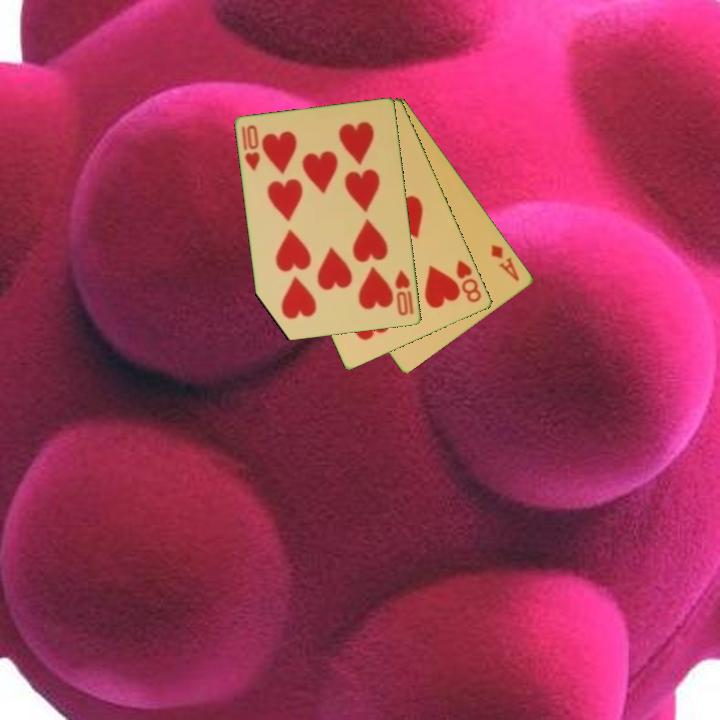10h: (392, 267, 417, 319), (238, 122, 263, 174)
8h: (453, 256, 485, 306)
Ad: (488, 240, 523, 284)
